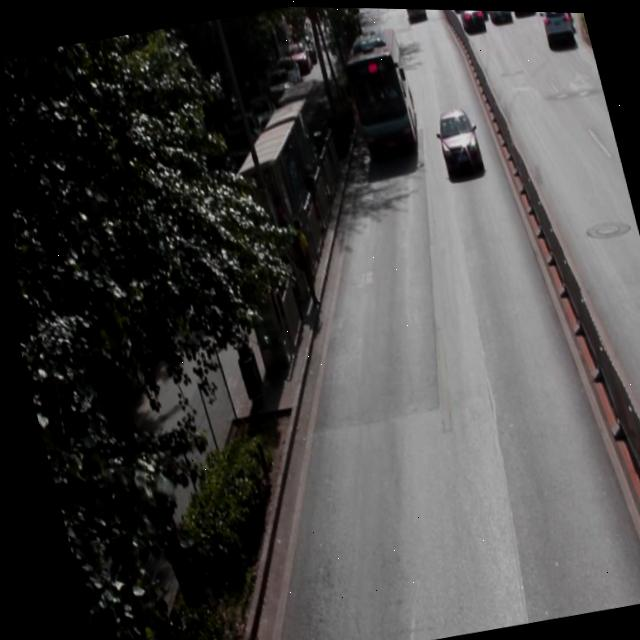car: (430, 105, 480, 173)
van: (335, 24, 421, 152)
